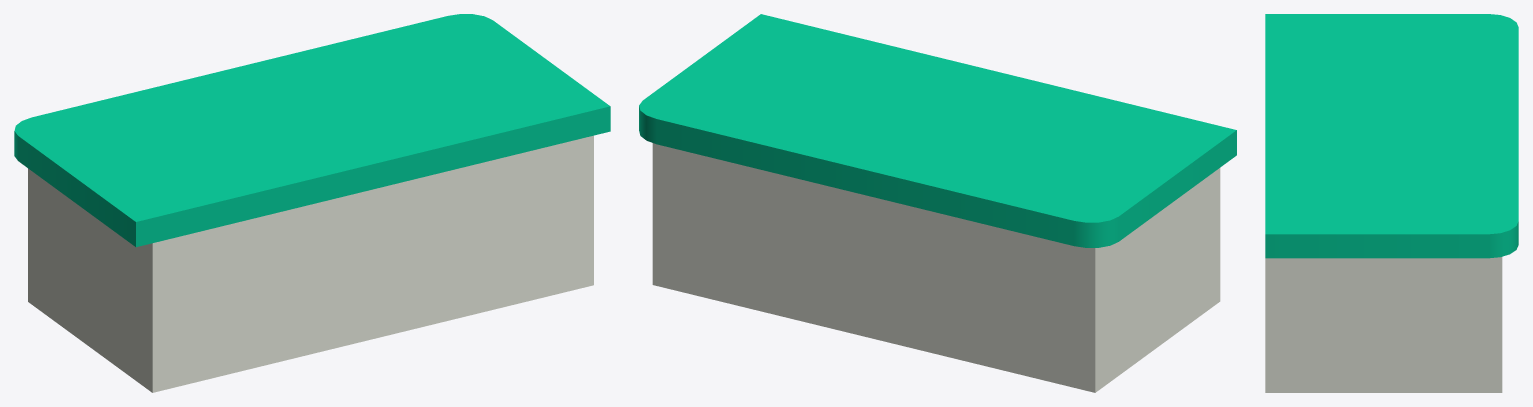
The model's file is TableB1_geo.fbx.
3 views of the same model, side by side, from view 1: azimuth 30°, elevation 25°; view 2: azimuth 150°, elevation 25°; view 3: azimuth 270°, elevation 25° (orthographic). The views are drawn at different scales.
Parts seen in each view (by area): view 1: TableB1_geo; view 2: TableB1_geo; view 3: TableB1_geo.
Part boxes in pixels (x1,y1,x2,y2): TableB1_geo: (14, 14, 610, 392); TableB1_geo: (639, 14, 1236, 392); TableB1_geo: (1265, 14, 1518, 392).
Bounding box in the file's own units: 1.93 × 0.9396 × 0.6803.
